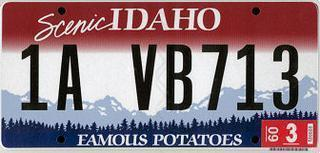placa de veiculo: (1, 2, 319, 153)
